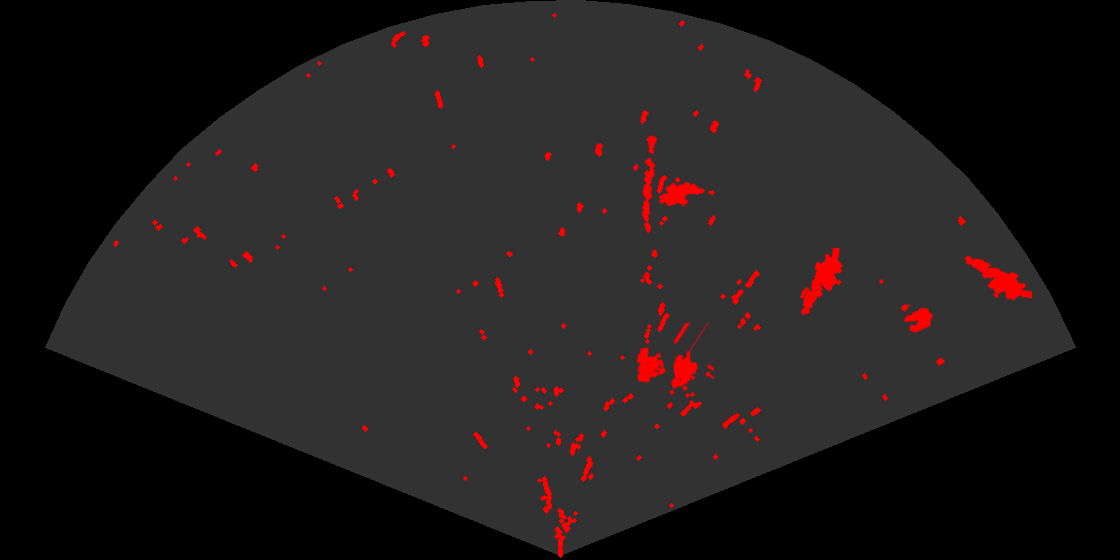AUV: (657, 181, 707, 208)
ball: (899, 303, 935, 334)
cage: (635, 323, 714, 396)
chain: (640, 132, 659, 235)
frogman: (963, 255, 1032, 302), (800, 248, 844, 317)
